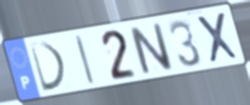2: (100, 27, 139, 82)
3: (169, 17, 203, 69)
D: (27, 40, 68, 95)
I: (73, 32, 98, 87)
N: (126, 21, 177, 77)
X: (194, 10, 242, 65)
